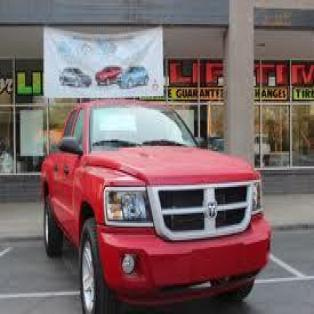Auto: (39, 96, 272, 312)
